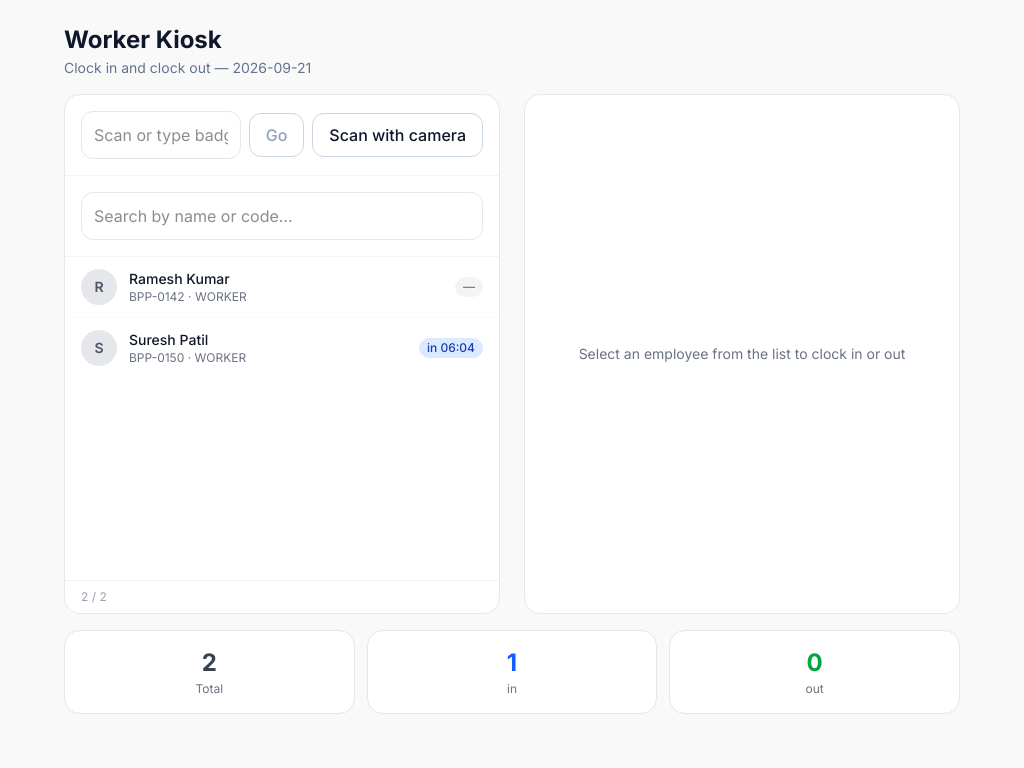
Test case: punching › offline it is SAVED ON THIS DEVICE, in words that say what already happened — never “connection error”
What coordinates should you click on to do the following:
click the button "R Ramesh Kumar BPP-0142 · WORKER —"
I would click on:
 (99, 287)
Its box is [65,257,499,318].
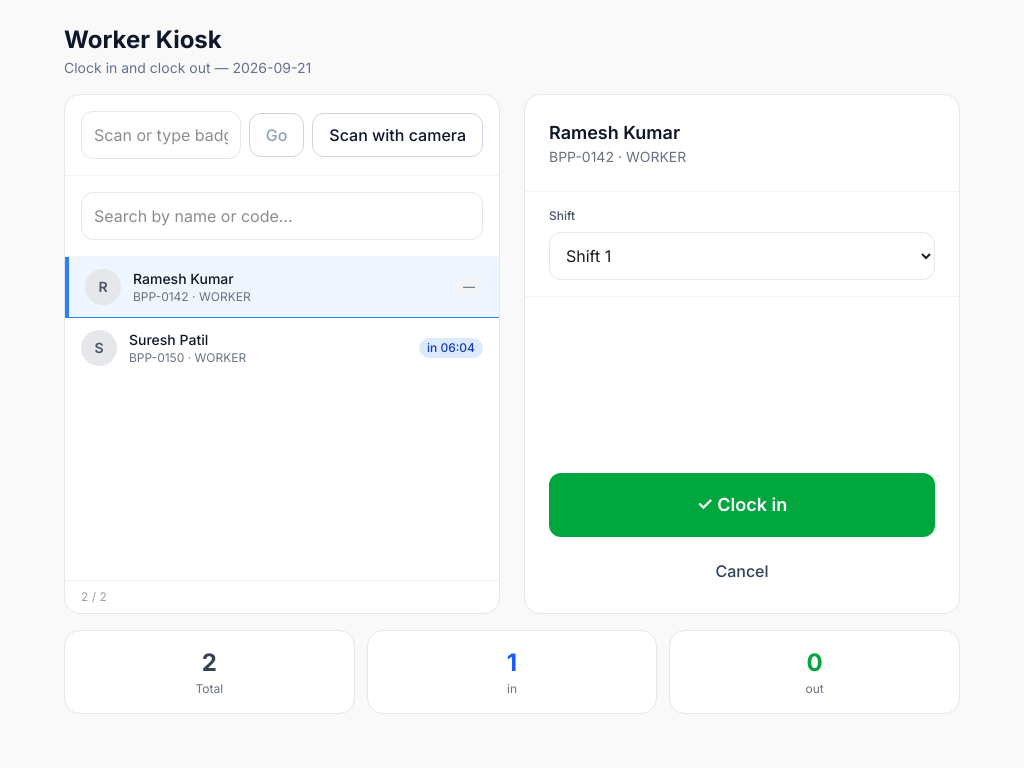
What coordinates should you click on to do the following:
click the button "✓ Clock in"
I would click on:
 (742, 505)
Its box is [549,473,935,537].
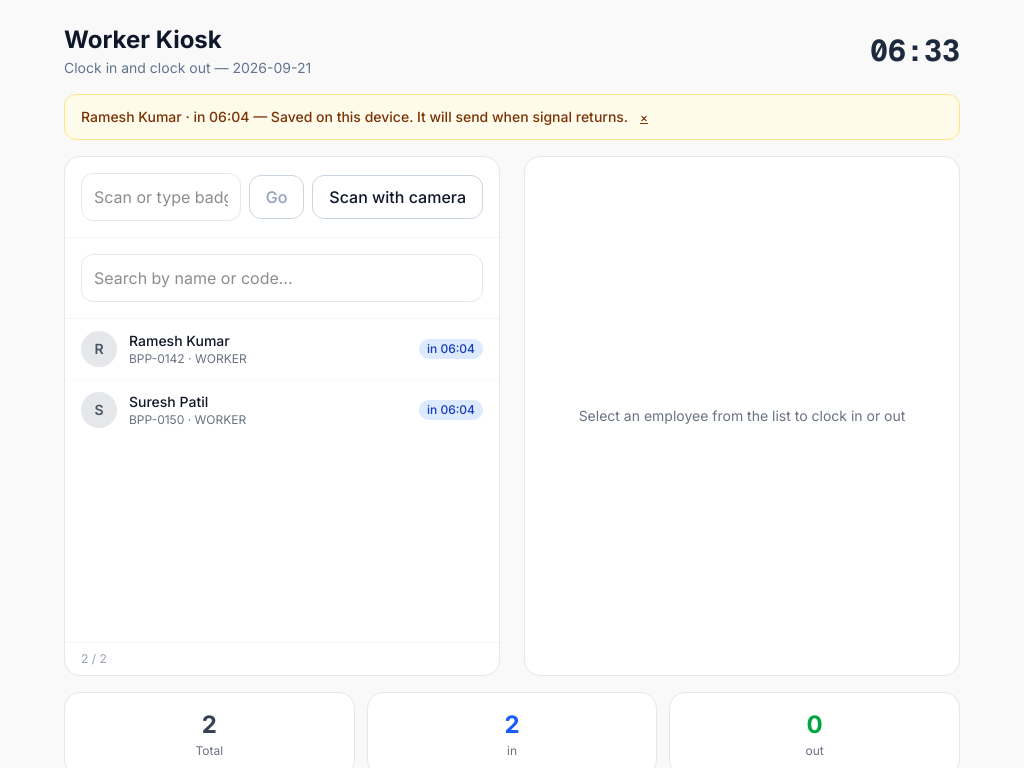
expect the text "Saved on this device" shows "Saved on this device. It will send when signal returns.": met, box [81,108,628,125]
expect the text "Saved on this device" shows "06:04": met, box [81,108,628,125]
